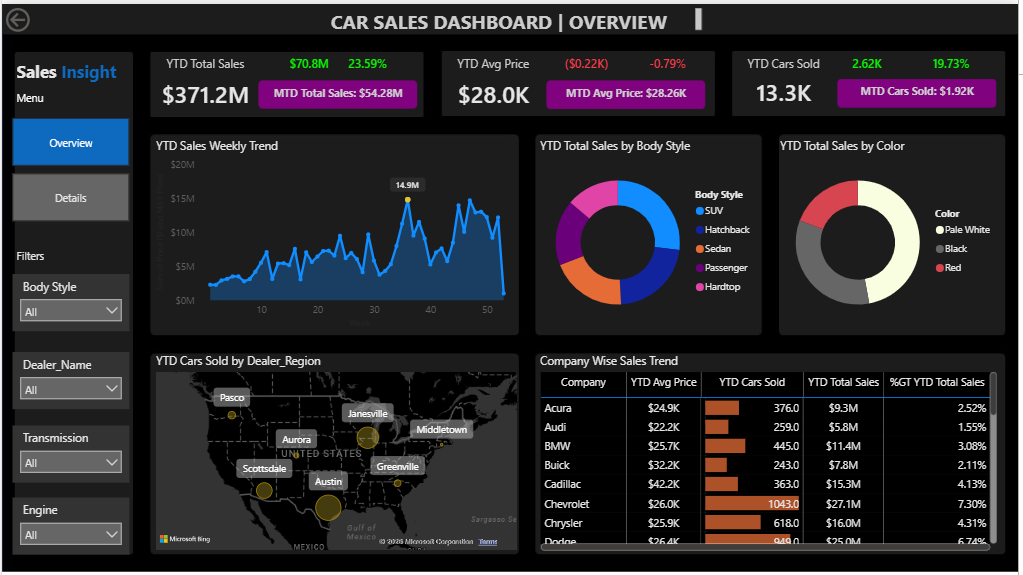

The dashboard page shown, as its layout file describes it:
{"tool":"powerbi","page":{"name":"Overview","canvas":[1280,720],"ordinal":0},"visuals":[{"type":"card","title":"YTD Total Sales","fields":{"Values":["car_data.YTD Total Sales"]},"box":[189,64.3,134.2,79.4],"z":0},{"type":"card","fields":{"Values":["car_data.Sales Difference"]},"box":[323.2,58.6,126.6,37.8],"z":1000},{"type":"card","fields":{"Values":["car_data.YOY Sales Growth"]},"box":[396.9,58.6,126.6,37.8],"z":2000},{"type":"card","fields":{"Values":["car_data.MTD KPI"]},"box":[323.2,96.4,200.3,35],"z":3000},{"type":"card","title":"YTD Avg Price","fields":{"Values":["car_data.YTD Avg Price"]},"box":[551.8,64.3,134.2,79.4],"z":4000},{"type":"card","fields":{"Values":["car_data.Avg Price Diff"]},"box":[672.8,58.6,126.6,37.8],"z":5000},{"type":"card","fields":{"Values":["car_data.YOY Avg Price Growth"]},"box":[774.8,58.6,126.6,37.8],"z":6000},{"type":"card","fields":{"Values":["car_data.MTD Avg Price KPI"]},"box":[686,96.4,200.3,35.9],"z":7000},{"type":"card","title":"YTD Cars Sold","fields":{"Values":["car_data.YTD Cars Sold"]},"box":[924.1,64.3,120.9,73.7],"z":8000},{"type":"card","fields":{"Values":["car_data.Car Sold Diff"]},"box":[1026.1,58.6,126.6,37.8],"z":9000},{"type":"card","fields":{"Values":["car_data.YOY Car Sold Growth"]},"box":[1132,58.6,126.6,37.8],"z":10000},{"type":"card","fields":{"Values":["car_data.MTD Car Sold KPI"]},"box":[1052.6,94.5,200.3,35.9],"z":11000},{"type":"areaChart","title":"YTD Sales Weekly Trend","fields":{"Category":["Calendar Table.Week"],"Y":["Sum(car_data.Price ($))","car_data.MAX Point on Area Chart"]},"box":[189,168.2,464.9,243.8],"z":12000},{"type":"donutChart","fields":{"Category":["car_data.Body Style"],"Y":["car_data.YTD Total Sales"]},"box":[672.8,168.2,283.5,243.8],"z":13000},{"type":"donutChart","fields":{"Y":["car_data.YTD Total Sales"],"Category":["car_data.Color"]},"box":[975.1,168.2,283.5,243.8],"z":14000},{"type":"map","fields":{"Category":["car_data.Dealer_Region"],"Size":["car_data.YTD Cars Sold"]},"box":[189,438.4,464.9,255.1],"z":15000},{"type":"tableEx","title":"Company Wise Sales Trend","fields":{"Values":["car_data.Company","car_data.YTD Avg Price","car_data.YTD Cars Sold","car_data.YTD Total Sales","Divide(car_data.YTD Total Sales, ScopedEval(car_data.YTD Total Sales, []))"]},"box":[672.8,438.4,585.8,255.1],"z":16000},{"type":"actionButton","box":[0,0,100,40],"z":17000},{"type":"textbox","box":[374.2,0,512.1,39.7],"z":18000},{"type":"slicer","fields":{"Values":["car_data.Body Style"]},"box":[13.2,340.2,147.4,71.8],"z":19000},{"type":"slicer","fields":{"Values":["car_data.Dealer_Name"]},"box":[13.2,438.4,147.4,71.8],"z":20000},{"type":"slicer","fields":{"Values":["car_data.Transmission"]},"box":[13.2,531,147.4,71.8],"z":21000},{"type":"slicer","fields":{"Values":["car_data.Engine"]},"box":[13.2,621.7,147.4,71.8],"z":22000},{"type":"textbox","box":[13.2,302.4,100.2,37.8],"z":23000},{"type":"textbox","box":[13.2,64.3,149.3,43.5],"z":24000},{"type":"textbox","box":[13.2,103.9,100.2,41.6],"z":25000},{"type":"pageNavigator","box":[13.2,143.6,147.4,130.4],"z":26000}]}

Visuals, with their boxes on the page's 1280x720 design canvas (x1, y1, x2, y2). These are canvas units, not pixel positions in the 1023x575 screenshot, which may show the page scaled, cropped or inside an application window:
"YTD Total Sales" card: select_region(189, 64, 323, 144)
card - car_data.Sales Difference: select_region(323, 59, 450, 96)
card - car_data.YOY Sales Growth: select_region(397, 59, 524, 96)
card - car_data.MTD KPI: select_region(323, 96, 524, 131)
"YTD Avg Price" card: select_region(552, 64, 686, 144)
card - car_data.Avg Price Diff: select_region(673, 59, 799, 96)
card - car_data.YOY Avg Price Growth: select_region(775, 59, 901, 96)
card - car_data.MTD Avg Price KPI: select_region(686, 96, 886, 132)
"YTD Cars Sold" card: select_region(924, 64, 1045, 138)
card - car_data.Car Sold Diff: select_region(1026, 59, 1153, 96)
card - car_data.YOY Car Sold Growth: select_region(1132, 59, 1259, 96)
card - car_data.MTD Car Sold KPI: select_region(1053, 94, 1253, 130)
"YTD Sales Weekly Trend" areaChart: select_region(189, 168, 654, 412)
donutChart - car_data.Body Style x car_data.YTD Total Sales: select_region(673, 168, 956, 412)
donutChart - car_data.YTD Total Sales x car_data.Color: select_region(975, 168, 1259, 412)
map - car_data.Dealer_Region x car_data.YTD Cars Sold: select_region(189, 438, 654, 694)
"Company Wise Sales Trend" tableEx: select_region(673, 438, 1259, 694)
actionButton: select_region(0, 0, 100, 40)
textbox: select_region(374, 0, 886, 40)
slicer - car_data.Body Style: select_region(13, 340, 161, 412)
slicer - car_data.Dealer_Name: select_region(13, 438, 161, 510)
slicer - car_data.Transmission: select_region(13, 531, 161, 603)
slicer - car_data.Engine: select_region(13, 622, 161, 694)
textbox: select_region(13, 302, 113, 340)
textbox: select_region(13, 64, 162, 108)
textbox: select_region(13, 104, 113, 146)
pageNavigator: select_region(13, 144, 161, 274)
